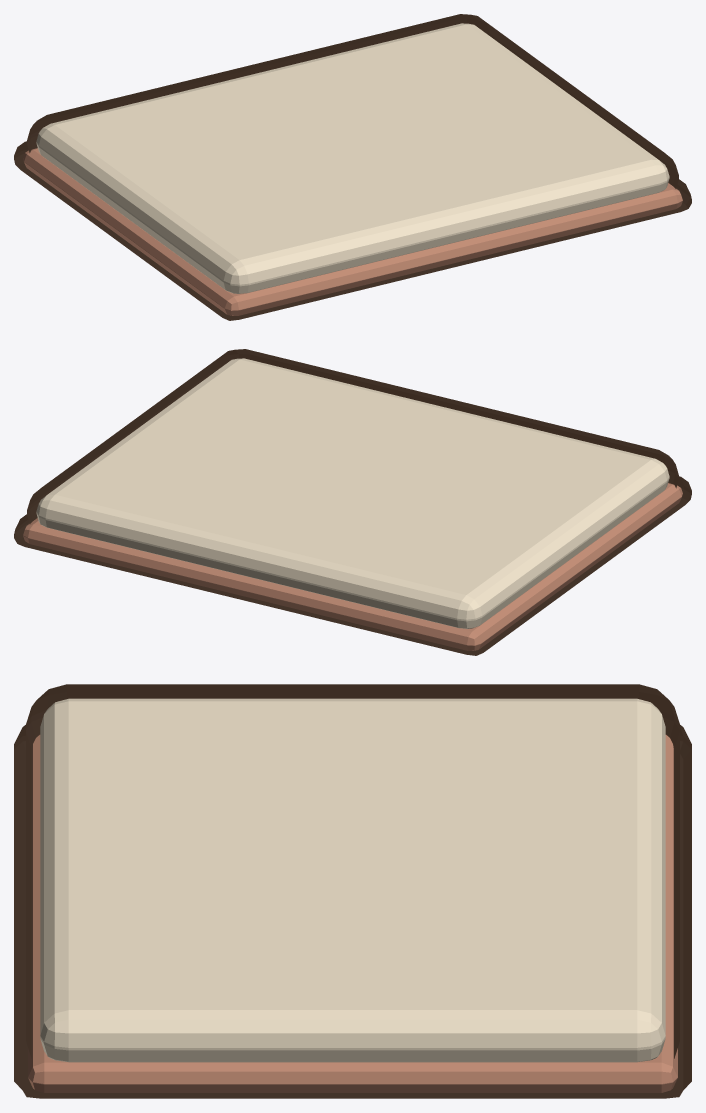
Rendered from atelier-pillow.glb.
The picture shows the model from 3 angles, top to bottom: view 1: azimuth 30°, elevation 25°; view 2: azimuth 150°, elevation 25°; view 3: azimuth 270°, elevation 25°; orthographic projection. The views are drawn at different scales.
Visible parts, largest first — view 1: atelier-pillow, atelier-pillow-outline; view 2: atelier-pillow, atelier-pillow-outline; view 3: atelier-pillow, atelier-pillow-outline.
Part boxes in pixels (x1,y1,x2,y2): atelier-pillow: (23, 23, 682, 315); atelier-pillow-outline: (14, 14, 691, 320); atelier-pillow: (23, 358, 682, 650); atelier-pillow-outline: (14, 349, 691, 655); atelier-pillow: (28, 698, 677, 1092); atelier-pillow-outline: (14, 684, 691, 1098).
Bounding box in the file's own units: 1.03 × 0.1157 × 0.8348.
